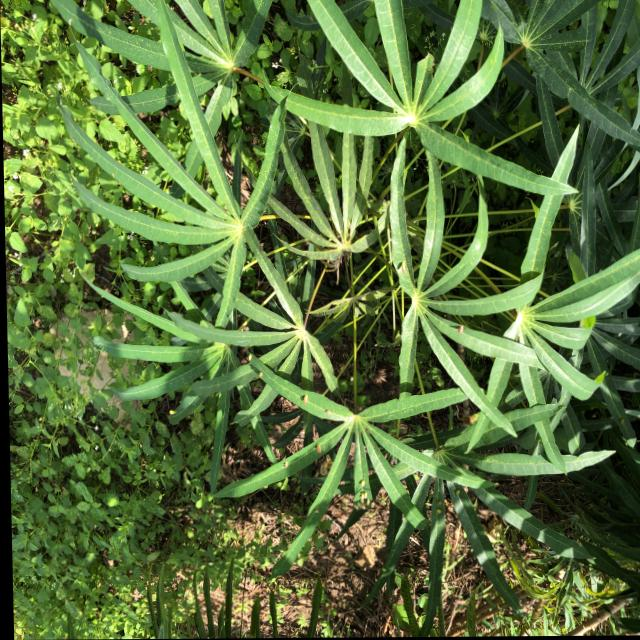Maleza: (5, 425, 225, 639), (0, 2, 69, 507)
Mosca: (353, 473, 379, 510), (384, 252, 411, 279), (447, 318, 471, 339), (307, 503, 328, 524), (271, 452, 293, 472), (298, 385, 316, 408), (295, 531, 315, 550), (208, 385, 225, 405), (307, 440, 328, 453), (240, 347, 258, 360), (255, 367, 268, 381)
